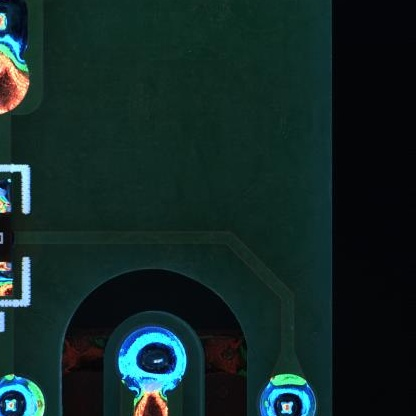spot: (117, 324, 186, 389), (258, 374, 317, 416), (1, 373, 46, 416), (1, 1, 31, 52)
